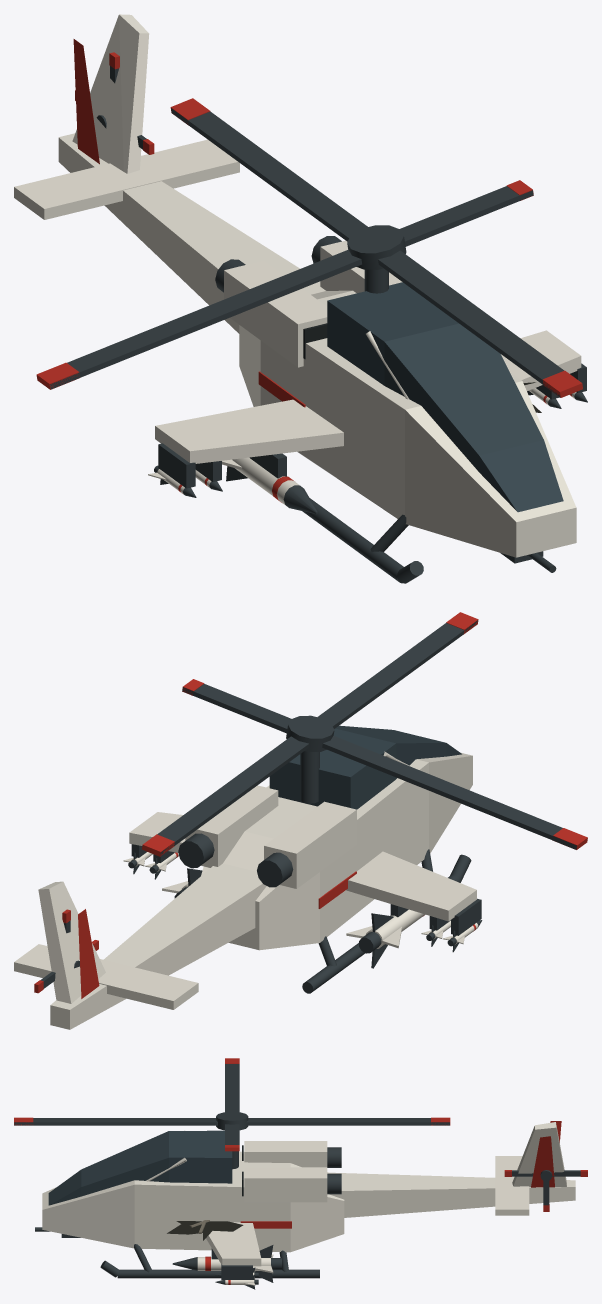
3 renders of one model, top to bottom at view 1: azimuth 30°, elevation 25°; view 2: azimuth 150°, elevation 25°; view 3: azimuth 270°, elevation 25°, orthographic. The views are drawn at different scales.
Parts seen in each view (by area): view 1: helicopter-damaged-fleet-armor, helicopter-damaged-fleet-glass, blade-arm-2-painted, helicopter-damaged-fleet-machine, blade-arm-3-painted, blade-arm-1-painted, blade-arm-0-painted, helicopter-damaged-fleet-red, store-left-large-painted, rotor-main-fleet-machine; view 2: helicopter-damaged-fleet-armor, helicopter-damaged-fleet-glass, helicopter-damaged-fleet-machine, blade-arm-2-painted, blade-arm-1-painted, blade-arm-3-painted, store-left-large-painted, blade-arm-0-painted, helicopter-damaged-fleet-red, rotor-main-fleet-machine; view 3: helicopter-damaged-fleet-armor, helicopter-damaged-fleet-glass, helicopter-damaged-fleet-machine, blade-arm-1-painted, blade-arm-3-painted, helicopter-damaged-fleet-red, store-right-large-painted, blade-arm-2-painted, helicopter-damaged-fleet-damage-charred, rotor-main-fleet-machine, blade-arm-0-painted.
Part boxes in pixels (x1=…): helicopter-damaged-fleet-armor: x1=14, y1=14, x2=581, y2=557; helicopter-damaged-fleet-glass: x1=327, y1=282, x2=563, y2=512; blade-arm-2-painted: x1=36, y1=249, x2=361, y2=389; helicopter-damaged-fleet-machine: x1=158, y1=236, x2=586, y2=583; blade-arm-3-painted: x1=378, y1=250, x2=582, y2=397; blade-arm-1-painted: x1=170, y1=98, x2=367, y2=241; blade-arm-0-painted: x1=399, y1=180, x2=533, y2=246; helicopter-damaged-fleet-red: x1=73, y1=39, x2=305, y2=407; store-left-large-painted: x1=222, y1=457, x2=317, y2=514; rotor-main-fleet-machine: x1=347, y1=225, x2=406, y2=269; helicopter-damaged-fleet-armor: x1=14, y1=751, x2=476, y2=1029; helicopter-damaged-fleet-glass: x1=269, y1=725, x2=461, y2=809; helicopter-damaged-fleet-machine: x1=131, y1=751, x2=481, y2=993; blade-arm-2-painted: x1=322, y1=735, x2=587, y2=849; blade-arm-1-painted: x1=142, y1=736, x2=309, y2=856; blade-arm-3-painted: x1=317, y1=612, x2=478, y2=728; store-left-large-painted: x1=346, y1=909, x2=425, y2=968; blade-arm-0-painted: x1=182, y1=679, x2=291, y2=733; helicopter-damaged-fleet-red: x1=78, y1=871, x2=356, y2=998; rotor-main-fleet-machine: x1=286, y1=715, x2=334, y2=752; helicopter-damaged-fleet-armor: x1=42, y1=1122, x2=575, y2=1266; helicopter-damaged-fleet-glass: x1=48, y1=1130, x2=232, y2=1205; helicopter-damaged-fleet-machine: x1=100, y1=1147, x2=341, y2=1279; blade-arm-1-painted: x1=246, y1=1117, x2=450, y2=1125; blade-arm-3-painted: x1=14, y1=1117, x2=217, y2=1125; helicopter-damaged-fleet-red: x1=240, y1=1121, x2=561, y2=1228; store-right-large-painted: x1=172, y1=1245, x2=281, y2=1282; blade-arm-2-painted: x1=225, y1=1058, x2=239, y2=1112; helicopter-damaged-fleet-damage-charred: x1=167, y1=1221, x2=243, y2=1240; rotor-main-fleet-machine: x1=216, y1=1111, x2=248, y2=1130; blade-arm-0-painted: x1=225, y1=1124, x2=239, y2=1151.
Size of the model in its own units: 40.54 by 19.2 by 66.32.
